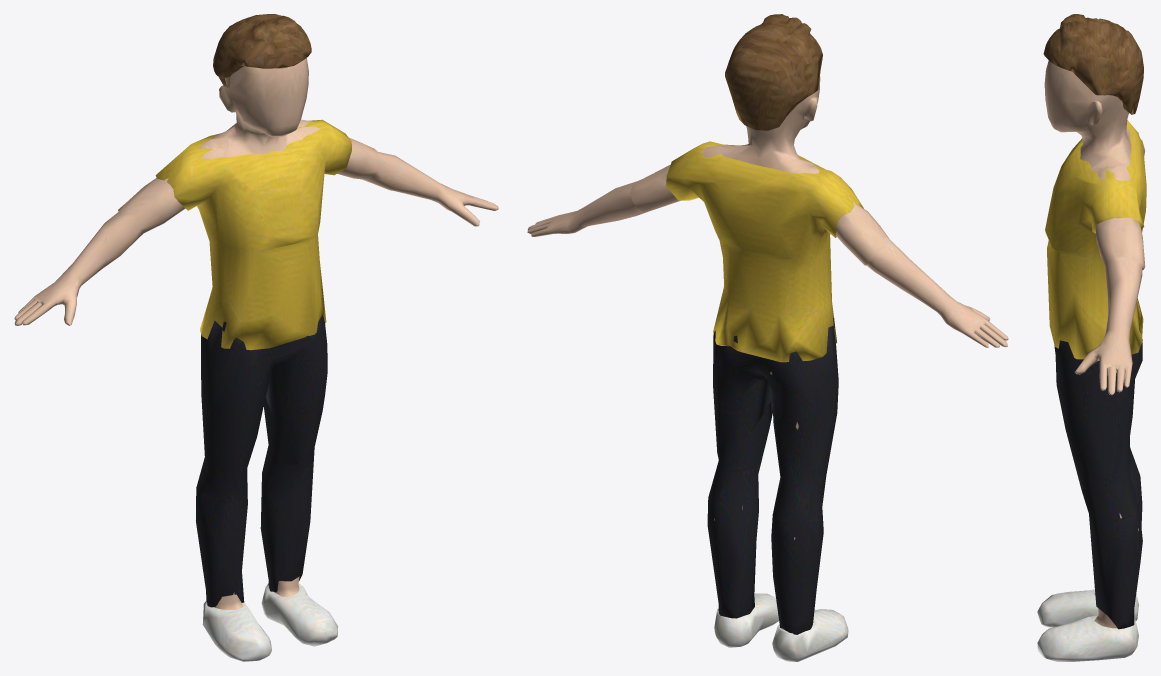
The model's file is npc_x_boy3.glb.
3 renders of one model, left to right at view 1: azimuth 30°, elevation 25°; view 2: azimuth 150°, elevation 25°; view 3: azimuth 270°, elevation 25°, orthographic.
Visible parts, largest first — view 1: Human; view 2: Human; view 3: Human.
Part boxes in pixels (<box>): Human: <box>14,14,498,661</box>; Human: <box>527,14,1008,661</box>; Human: <box>1037,14,1146,661</box>.
Size of the model in its own units: 1.16 by 1.43 by 0.2287.
Materials: 1 (1 with a texture image).
